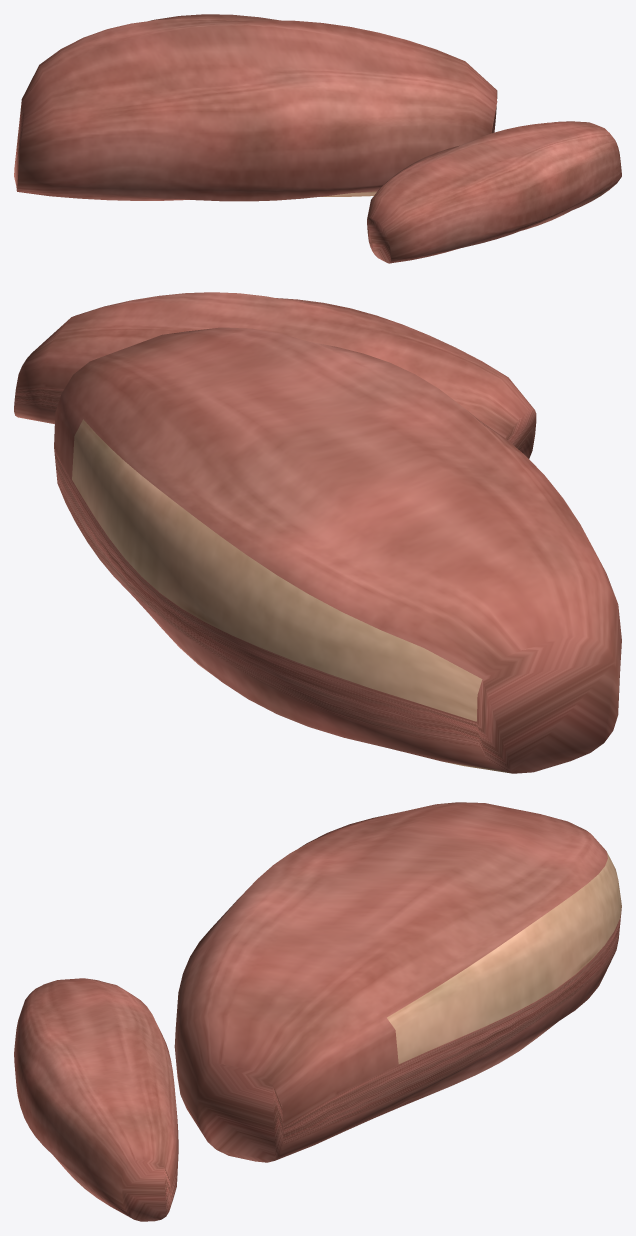
Rendered from eagle_meat.glb.
3 views of the same model, one above another, from view 1: azimuth 30°, elevation 25°; view 2: azimuth 150°, elevation 25°; view 3: azimuth 270°, elevation 25° (orthographic). The views are drawn at different scales.
Parts seen in each view (by area): view 1: eagle_meat; view 2: eagle_meat; view 3: eagle_meat.
Boxes of the visible parts, bbox=[...] form: eagle_meat: bbox=[14, 14, 621, 263]; eagle_meat: bbox=[14, 292, 621, 773]; eagle_meat: bbox=[14, 802, 621, 1221].
Size of the model in its own units: 0.1274 by 0.0337 by 0.1046.
2 materials, 2 textured.
